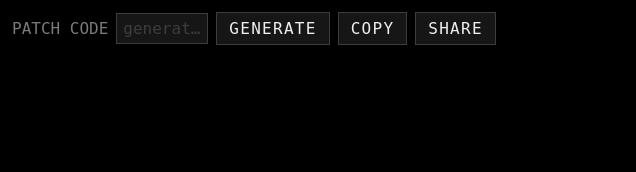
pasting › says when there is nothing under a code
Type "K7M2QX" into the field named "Patch code" at (162, 28), box [116, 13, 208, 44]
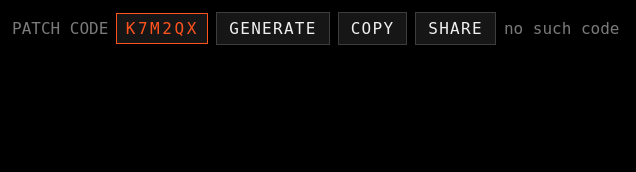
Check: the text "no such code" is shown, box [504, 19, 620, 38]
